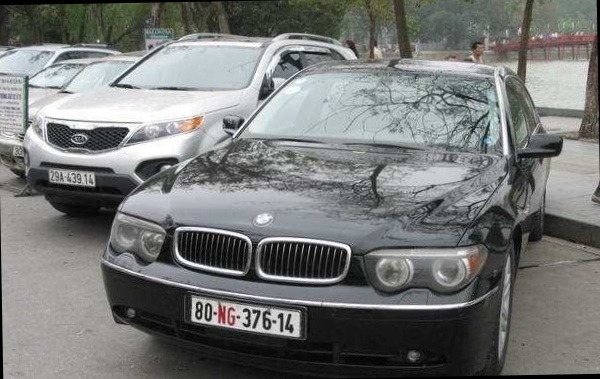plate: (186, 290, 308, 341), (49, 167, 97, 192)
